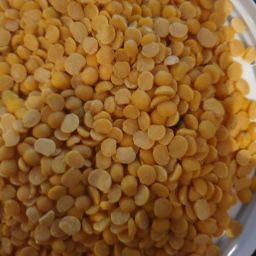Pigeon Pea(toor daal): (13, 5, 256, 256), (46, 14, 256, 211), (86, 40, 256, 239), (65, 68, 243, 248), (126, 108, 256, 203)
